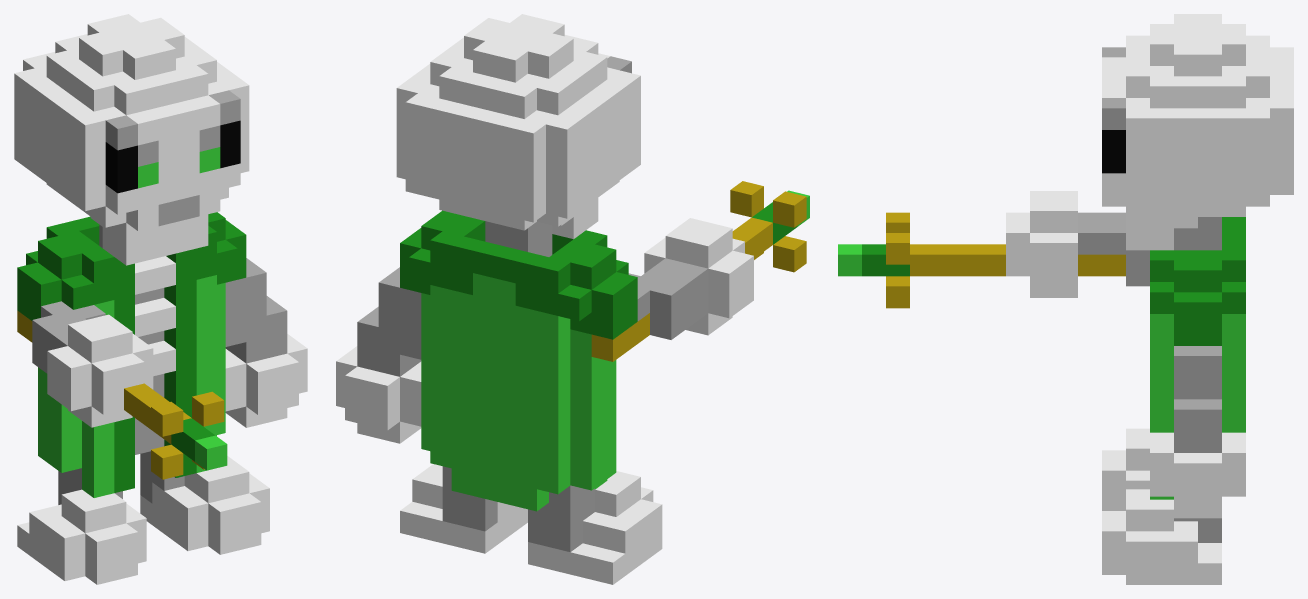
The model's file is rAttack.obj.
The picture shows the model from 3 angles, left to right: view 1: azimuth 30°, elevation 25°; view 2: azimuth 150°, elevation 25°; view 3: azimuth 270°, elevation 25°; orthographic projection. The views are drawn at different scales.
Size of the model in its own units: 1.5 by 2.3 by 1.9.
Materials: 1 (1 with a texture image).
